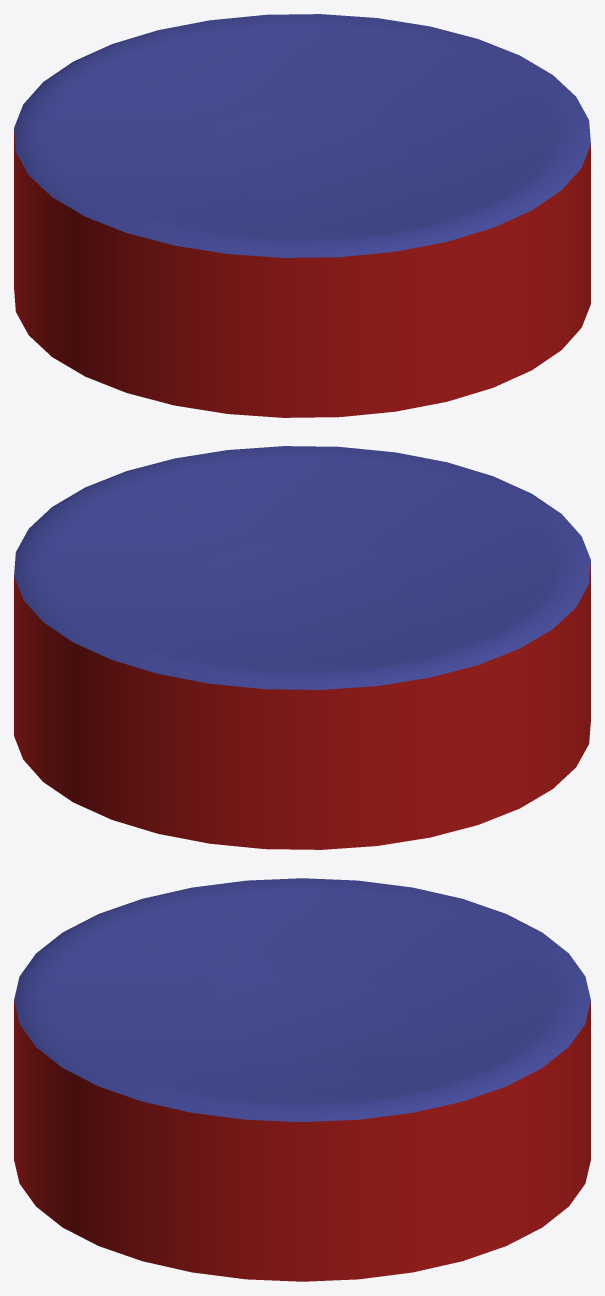
File: Button_03.fbx
3 renders of one model, top to bottom at view 1: azimuth 30°, elevation 25°; view 2: azimuth 150°, elevation 25°; view 3: azimuth 270°, elevation 25°, orthographic.
Parts seen in each view (by area): view 1: Button_03; view 2: Button_03; view 3: Button_03.
Part boxes in pixels (x1=…): Button_03: x1=14, y1=14, x2=590, y2=417; Button_03: x1=14, y1=446, x2=590, y2=849; Button_03: x1=14, y1=878, x2=590, y2=1281.
Bounding box in the file's own units: 2.52 × 0.8002 × 2.52.
